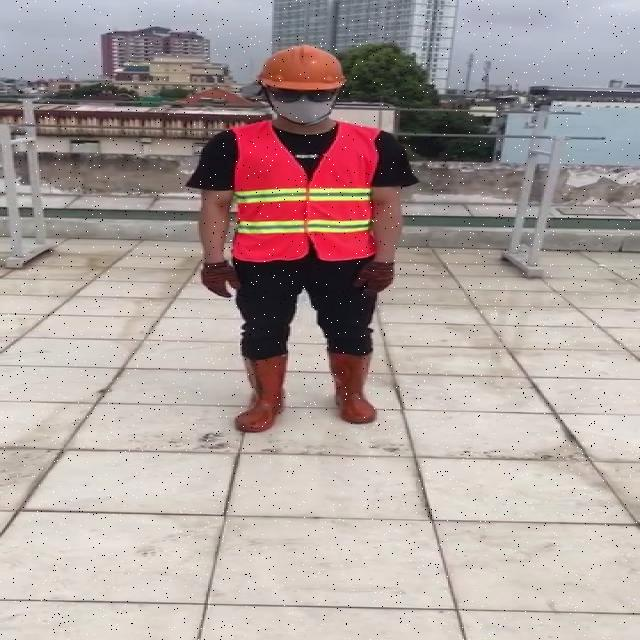Hard_hat: (253, 42, 354, 100)
Person: (180, 40, 423, 439)
Vest: (224, 121, 379, 263)
